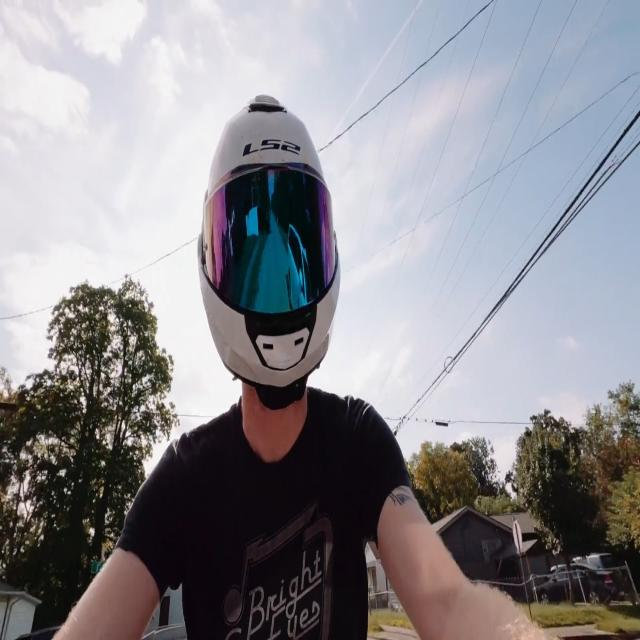Helmet_Wearer: (188, 83, 340, 433)
Person: (48, 82, 529, 640)
